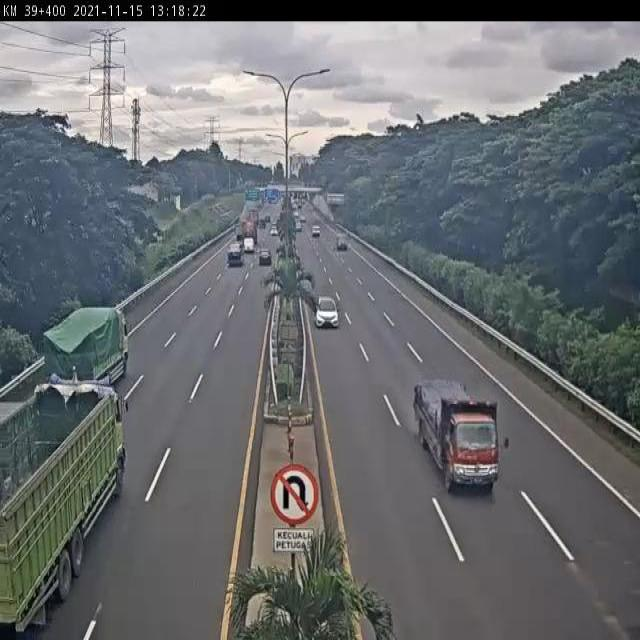car: (313, 293, 340, 331)
truck-l-: (0, 379, 128, 632)
truck-m-: (413, 374, 502, 494), (43, 308, 132, 397)
